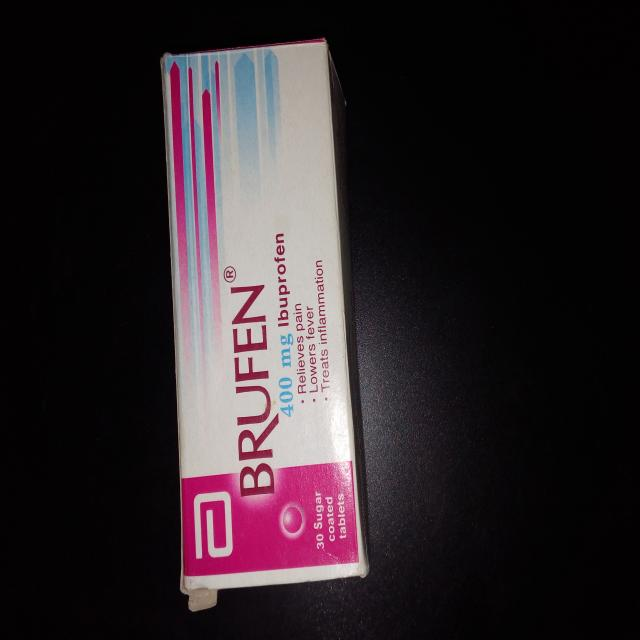Medicine: (160, 41, 383, 620)
